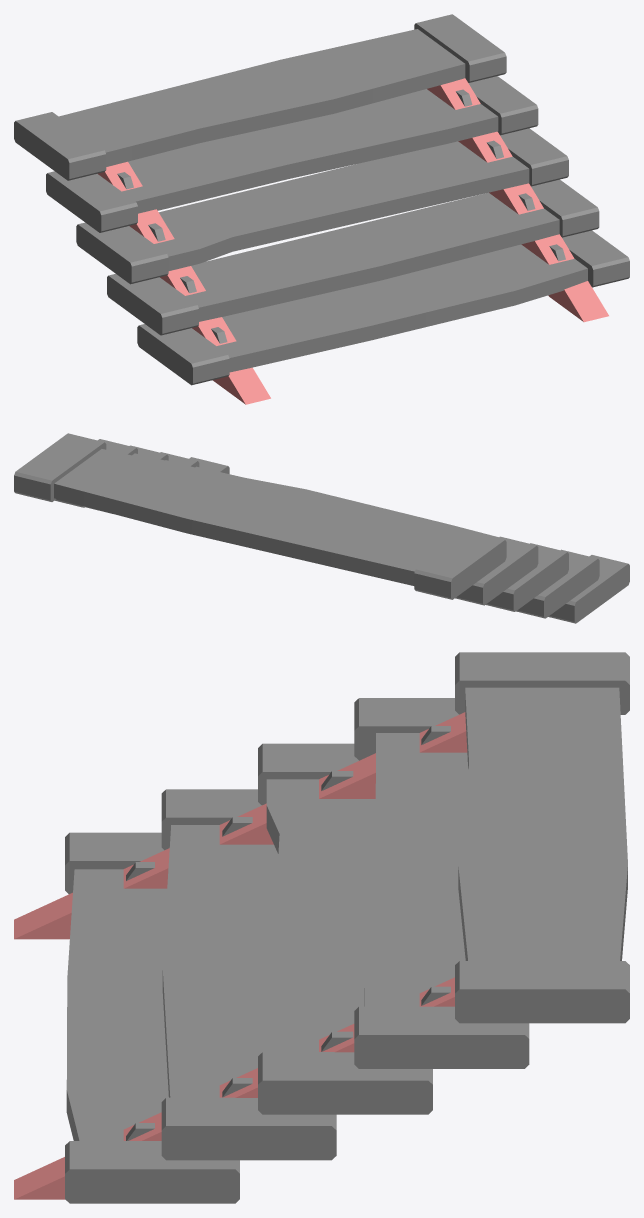
The model's file is S_Envi_Umeda_Japan_Steps_01.gltf.
3 renders of one model, top to bottom at view 1: azimuth 30°, elevation 25°; view 2: azimuth 150°, elevation 25°; view 3: azimuth 270°, elevation 25°, orthographic. The views are drawn at different scales.
Visible parts, largest first — view 1: S_Envi_Umeda_Japan_Steps_01; view 2: S_Envi_Umeda_Japan_Steps_01; view 3: S_Envi_Umeda_Japan_Steps_01.
Boxes of the visible parts, <box> form: S_Envi_Umeda_Japan_Steps_01: <box>14,14,629,404</box>; S_Envi_Umeda_Japan_Steps_01: <box>14,433,629,623</box>; S_Envi_Umeda_Japan_Steps_01: <box>14,652,629,1203</box>.
Size of the model in its own units: 3.57 by 1.18 by 2.76.
